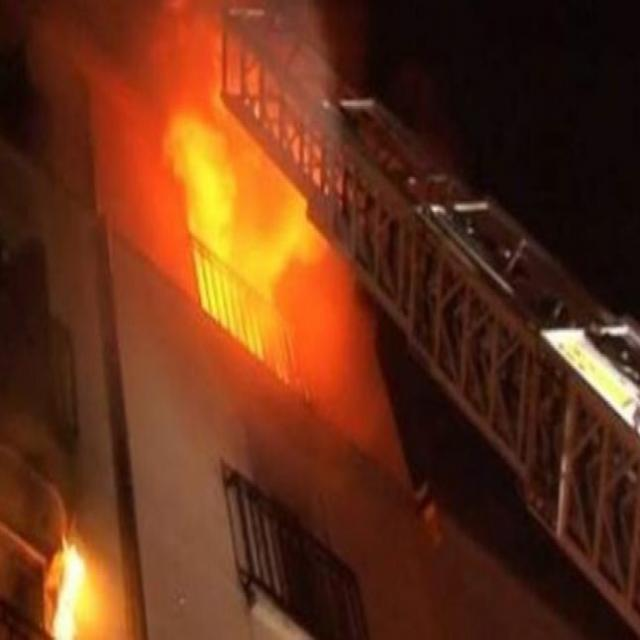Fire: (171, 34, 337, 340), (48, 538, 105, 640)
